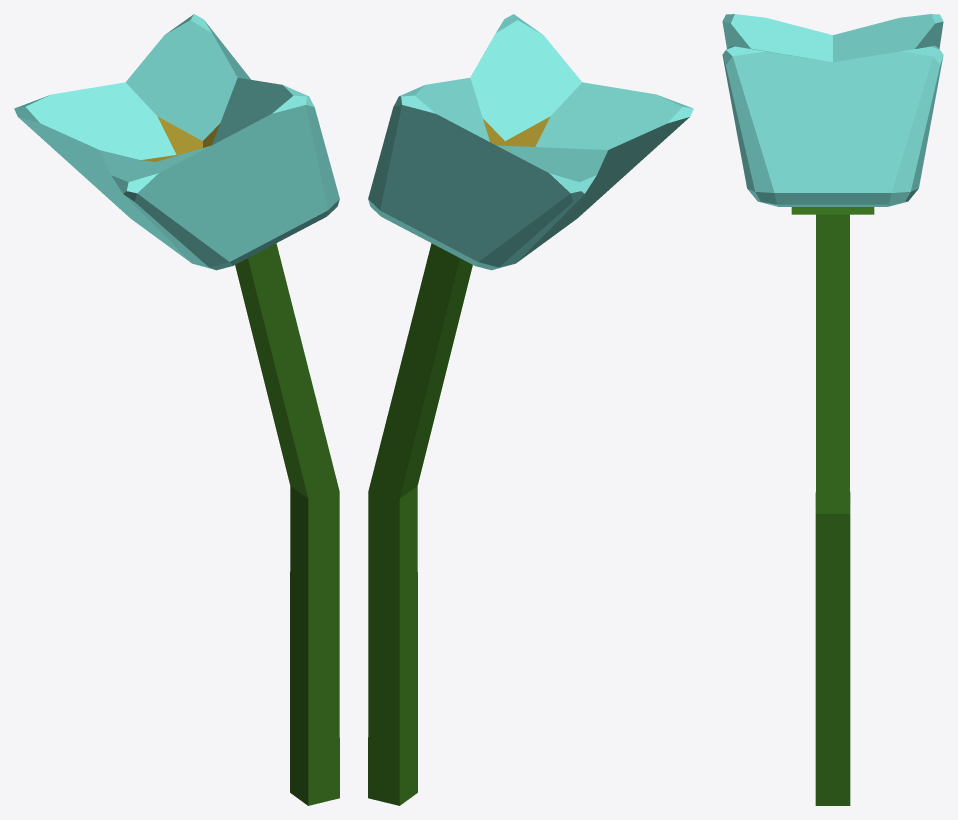
Rendered from Tulip_flower_3.fbx.
3 views of the same model, side by side, from view 1: azimuth 30°, elevation 25°; view 2: azimuth 150°, elevation 25°; view 3: azimuth 270°, elevation 25° (orthographic). The views are drawn at different scales.
Visible parts, largest first — view 1: Tulip_flower_3; view 2: Tulip_flower_3; view 3: Tulip_flower_3.
Boxes of the visible parts, x1,y1,x2,y2 form: Tulip_flower_3: (14, 14, 339, 805); Tulip_flower_3: (368, 14, 693, 805); Tulip_flower_3: (722, 14, 943, 805).
Size of the model in its own units: 8.43 by 23.4 by 6.53.
